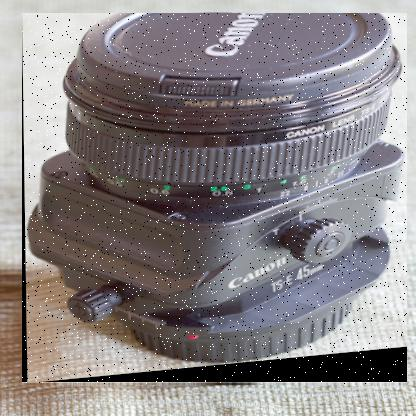Camera: (23, 15, 409, 387)
